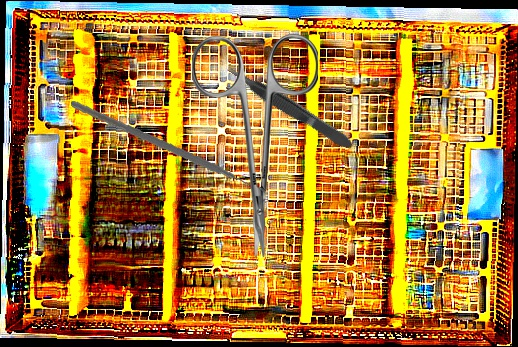Chopper: (70, 79, 263, 228)
Iris Scissors: (192, 34, 318, 259)
Tissue Forceps: (223, 60, 355, 155)
